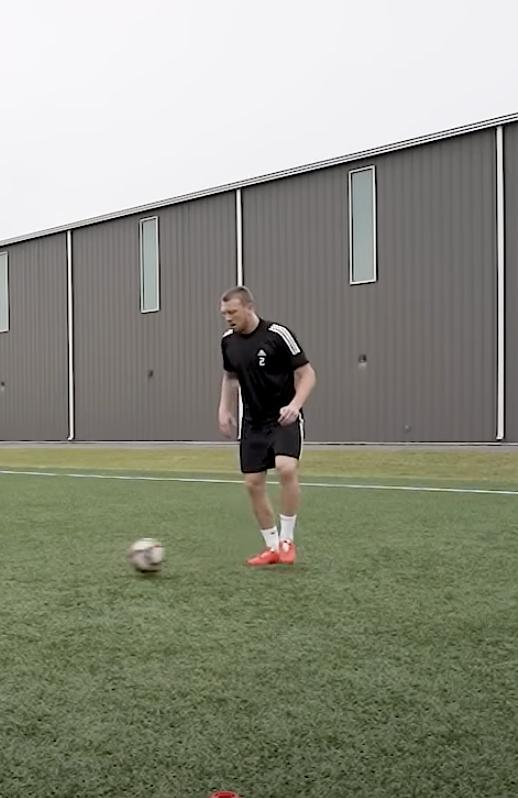ball: (128, 537, 166, 576)
foot: (246, 547, 278, 565), (278, 537, 295, 564)
person: (218, 286, 314, 568)
